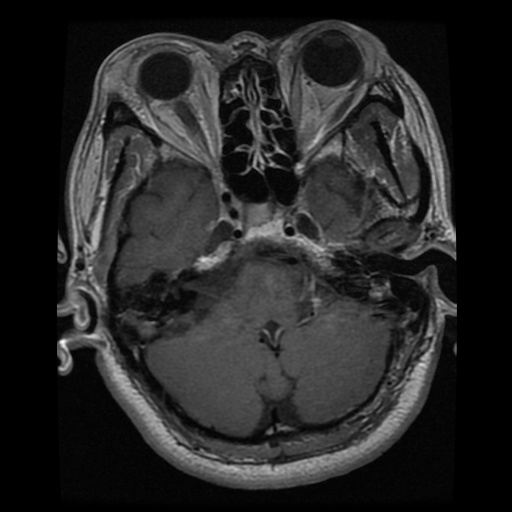pituitary: (243, 200, 283, 244)
